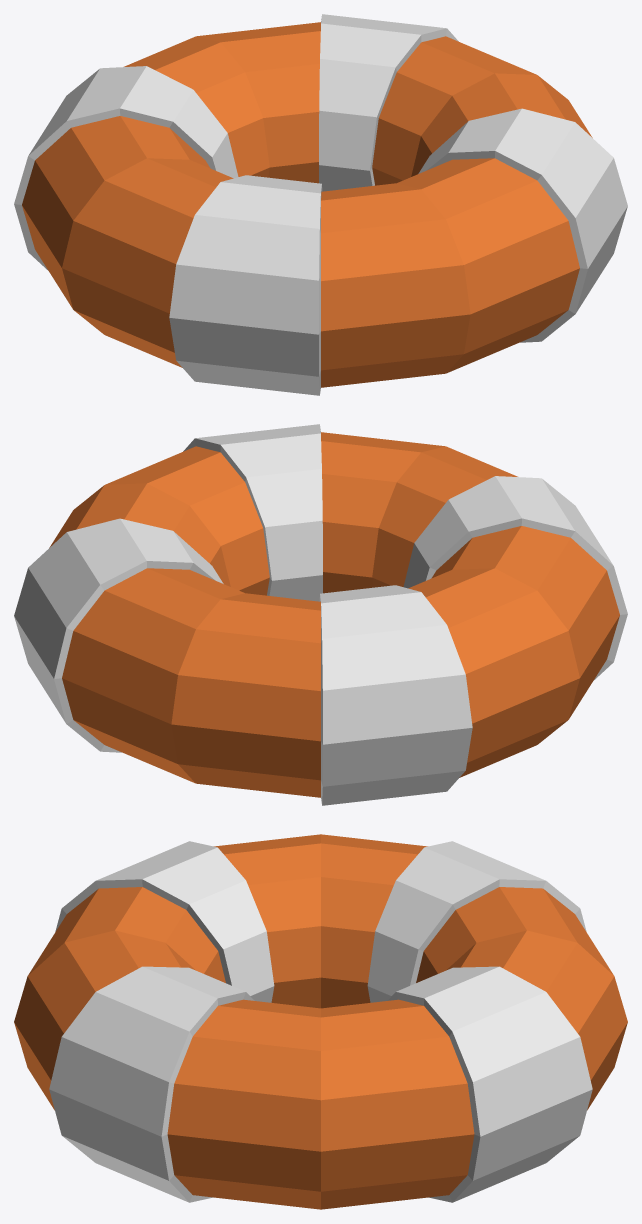
The model's file is Ring.fbx.
3 renders of one model, top to bottom at view 1: azimuth 30°, elevation 25°; view 2: azimuth 150°, elevation 25°; view 3: azimuth 270°, elevation 25°, orthographic. The views are drawn at different scales.
Visible parts, largest first — view 1: Torus; view 2: Torus; view 3: Torus.
Part boxes in pixels (x1,y1,x2,y2): Torus: (14,14,627,395); Torus: (14,424,627,805); Torus: (14,834,627,1209).
Size of the model in its own units: 152 by 54.13 by 152.
